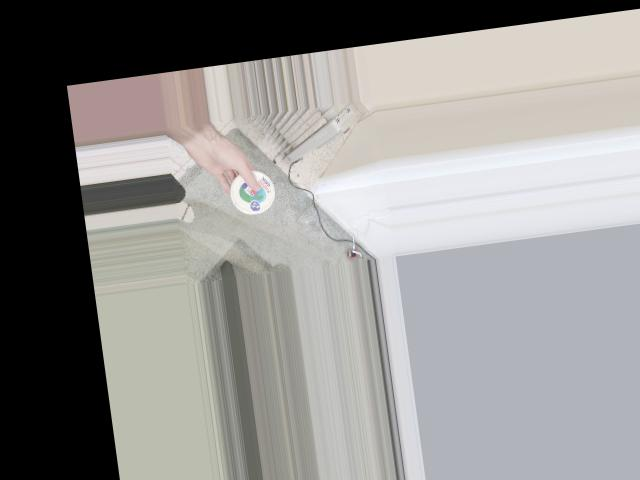cotage: (228, 168, 275, 214)
